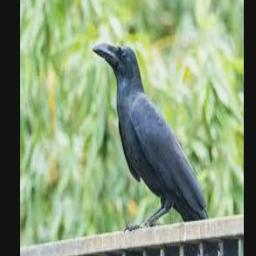Crow: (92, 42, 218, 256)
